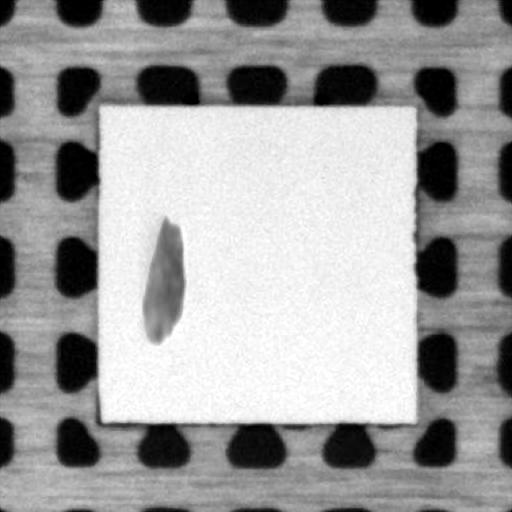DIE_INK: (138, 211, 188, 342)
